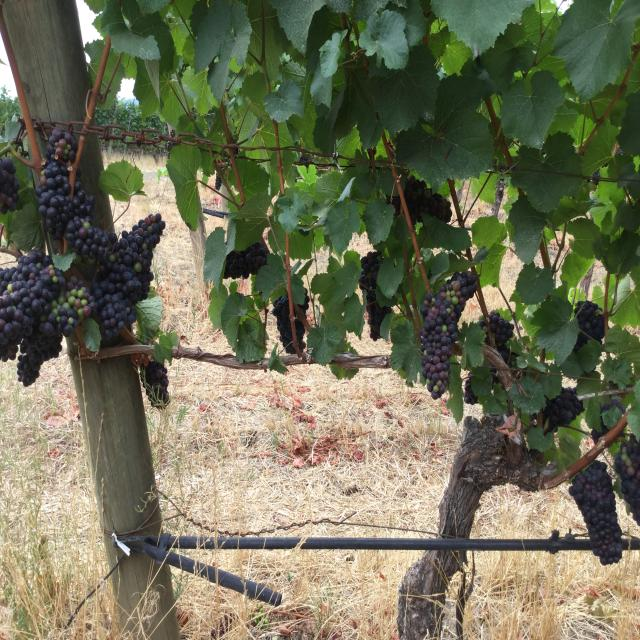grapes: (91, 213, 165, 340), (0, 250, 66, 387), (420, 272, 476, 398), (35, 128, 95, 240), (569, 460, 622, 565), (359, 252, 391, 342), (615, 435, 640, 527), (64, 217, 110, 262), (542, 388, 584, 432), (224, 242, 268, 280), (272, 295, 296, 353), (0, 157, 20, 213), (295, 318, 305, 350), (301, 290, 310, 315)
